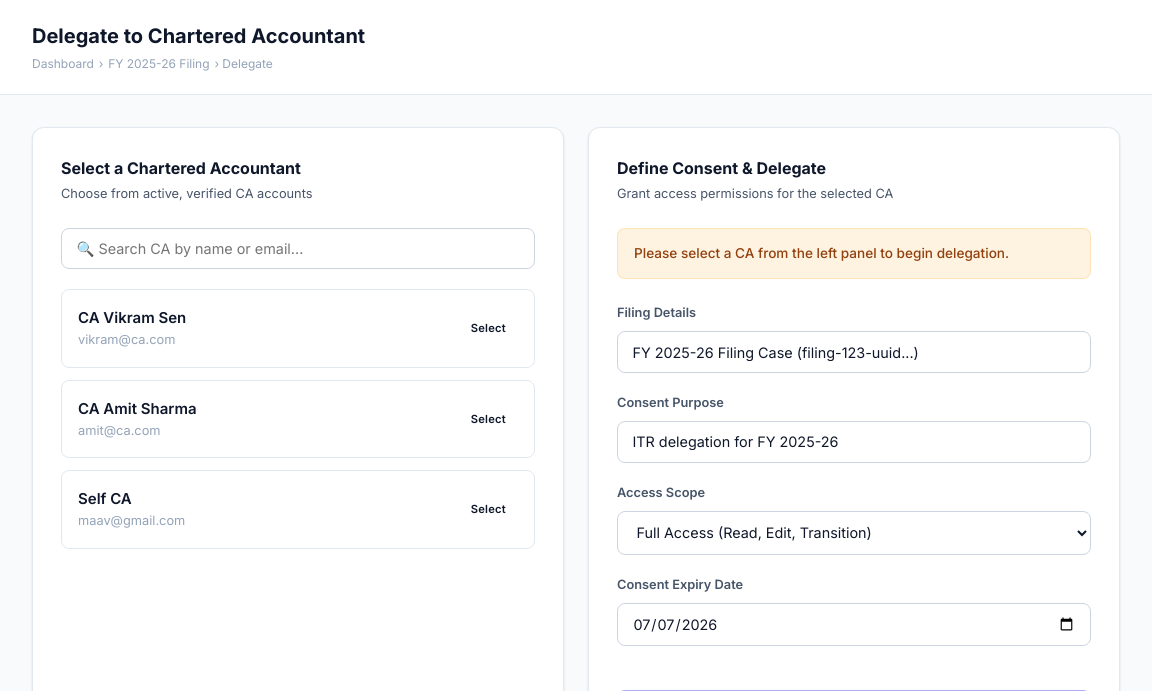
it: CA Assignment Workflow › completes the consent creation and CA assignment flow successfully
Note: Select valid CA
Click the element with test id "ca-item-ca-1-uuid": x=298, y=329 left=61, top=289, right=535, bottom=368
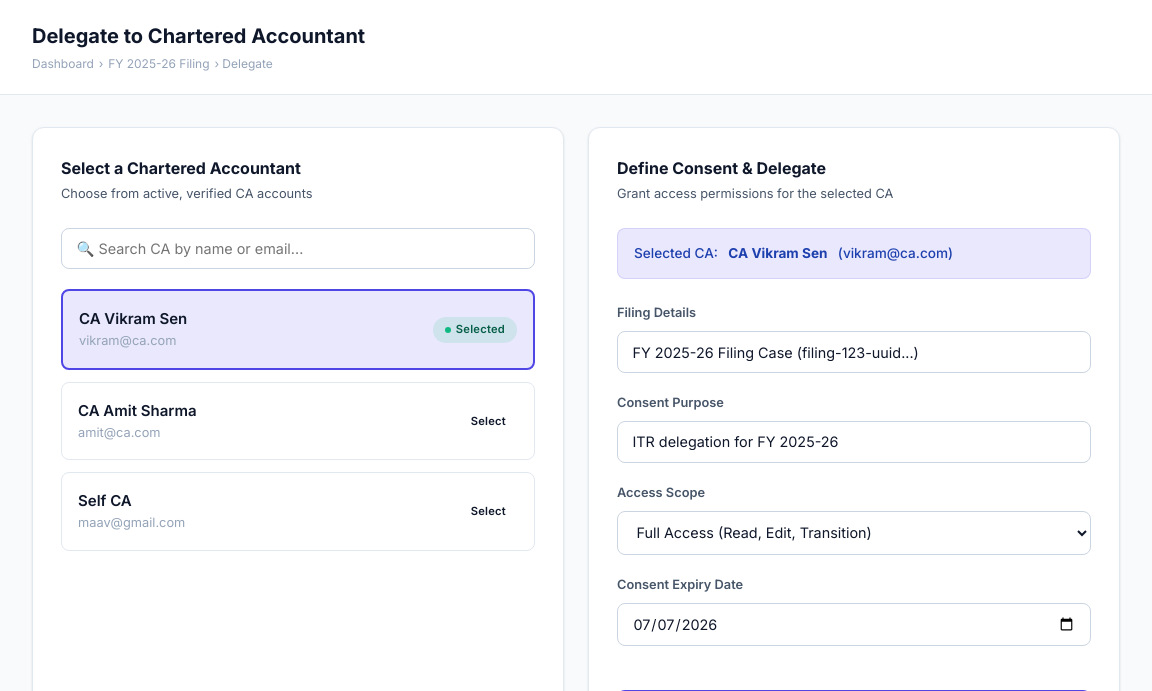
Result: the element with test id "selected-ca-banner" shows "CA Vikram Sen" at left=728, top=245, right=828, bottom=261
Note: Fill purpose
Replace the text in the field with test id "consent-purpose-input" with "ITR review for FY 2025-26": x=854, y=442 left=617, top=421, right=1091, bottom=463
(page scrolled)
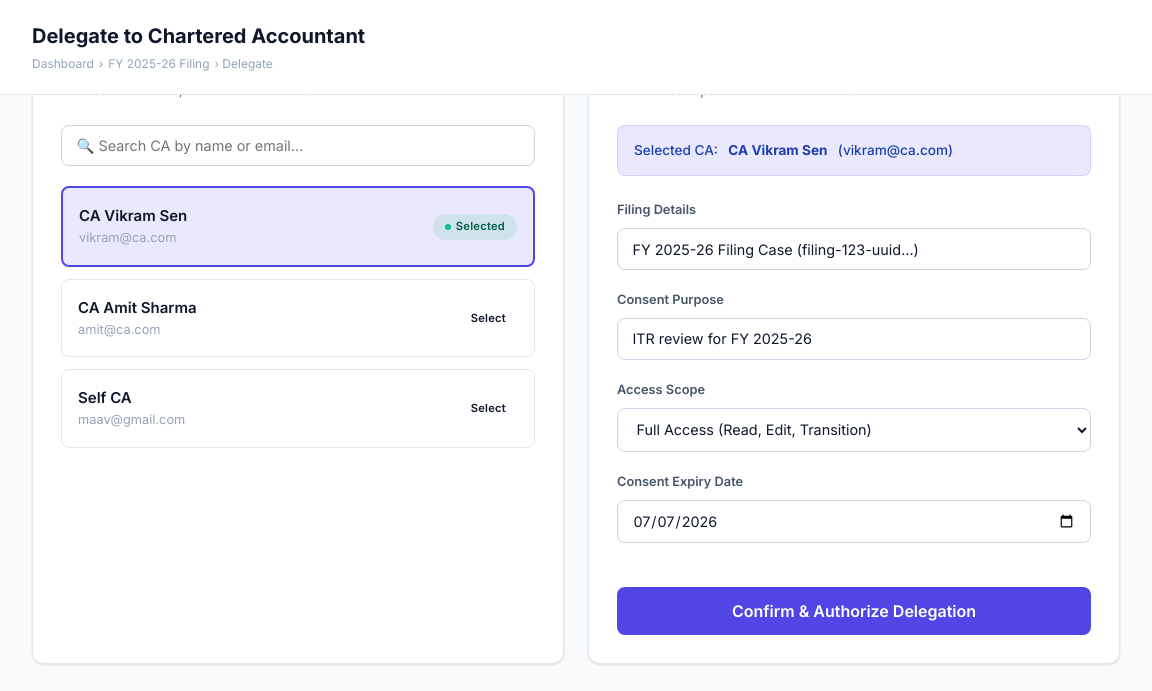
Note: Submit form
Submit the form with test id "consent-form", box left=617, top=125, right=1091, bottom=634
(page scrolled)
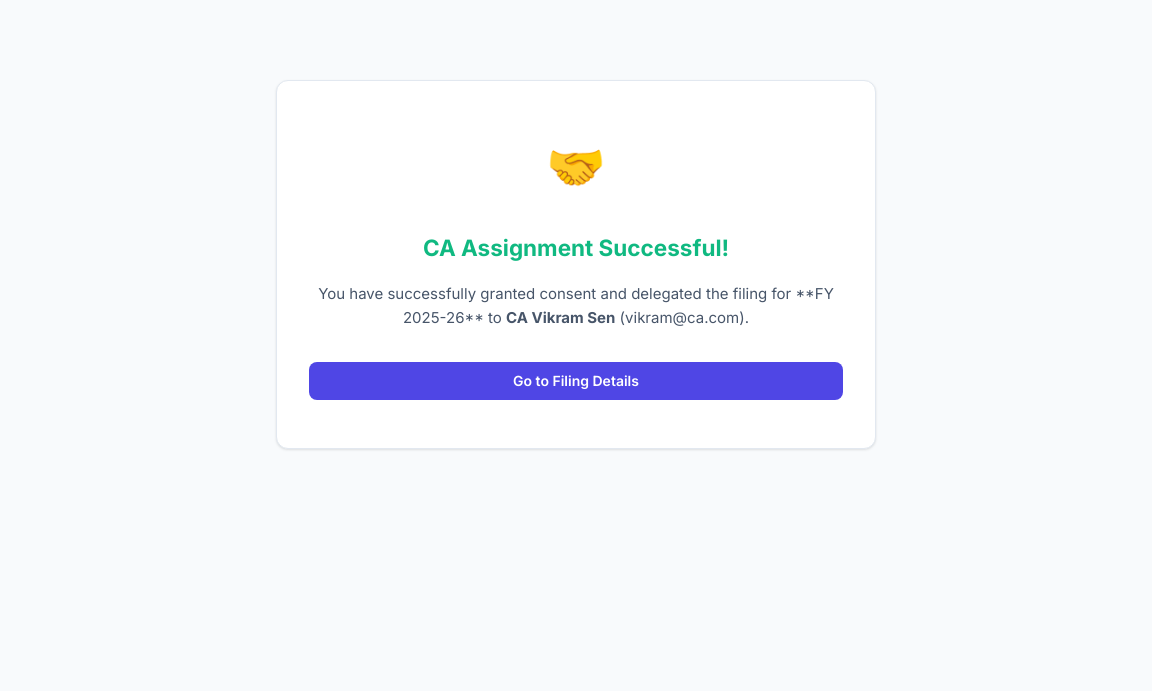
Result: the element with test id "success-state" is shown at left=276, top=80, right=876, bottom=449
